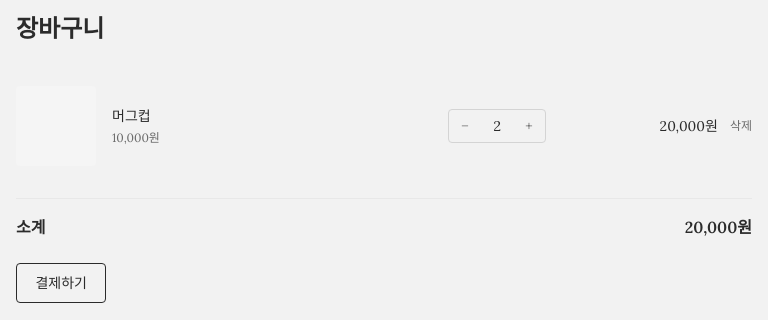
it: CartView — AC-STOREFRONT-020 › shows a generic message and leaves state unchanged on a network failure
This screenshot has width=768, height=320.
Step 1. Click the button named "머그컵 수량 증가" → (529, 126), box [513,110,545,142]
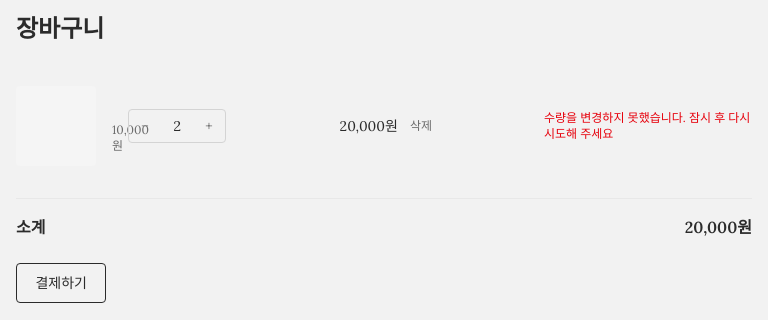
Expected: the text "20,000" is shown, [340,117,398,135]
Expected: the message "수량을 변경하지 못했습니다. 잠시 후 다시 시도해 주세요" is shown, [544,110,750,141]
